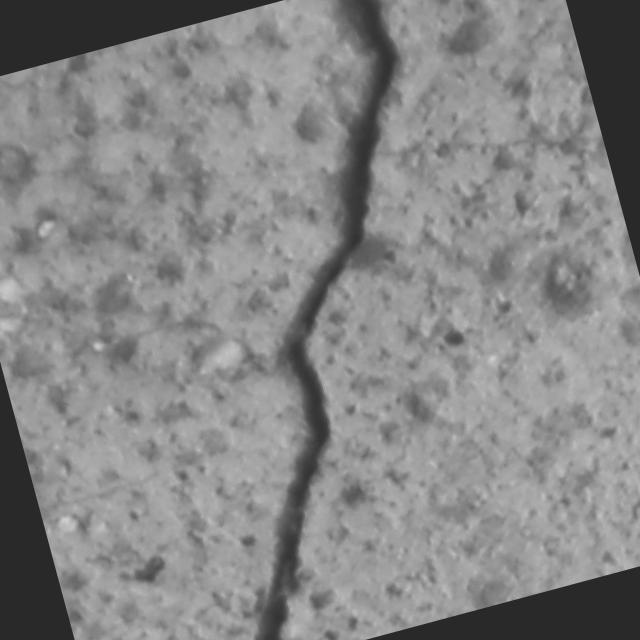crack: (89, 0, 545, 640)
